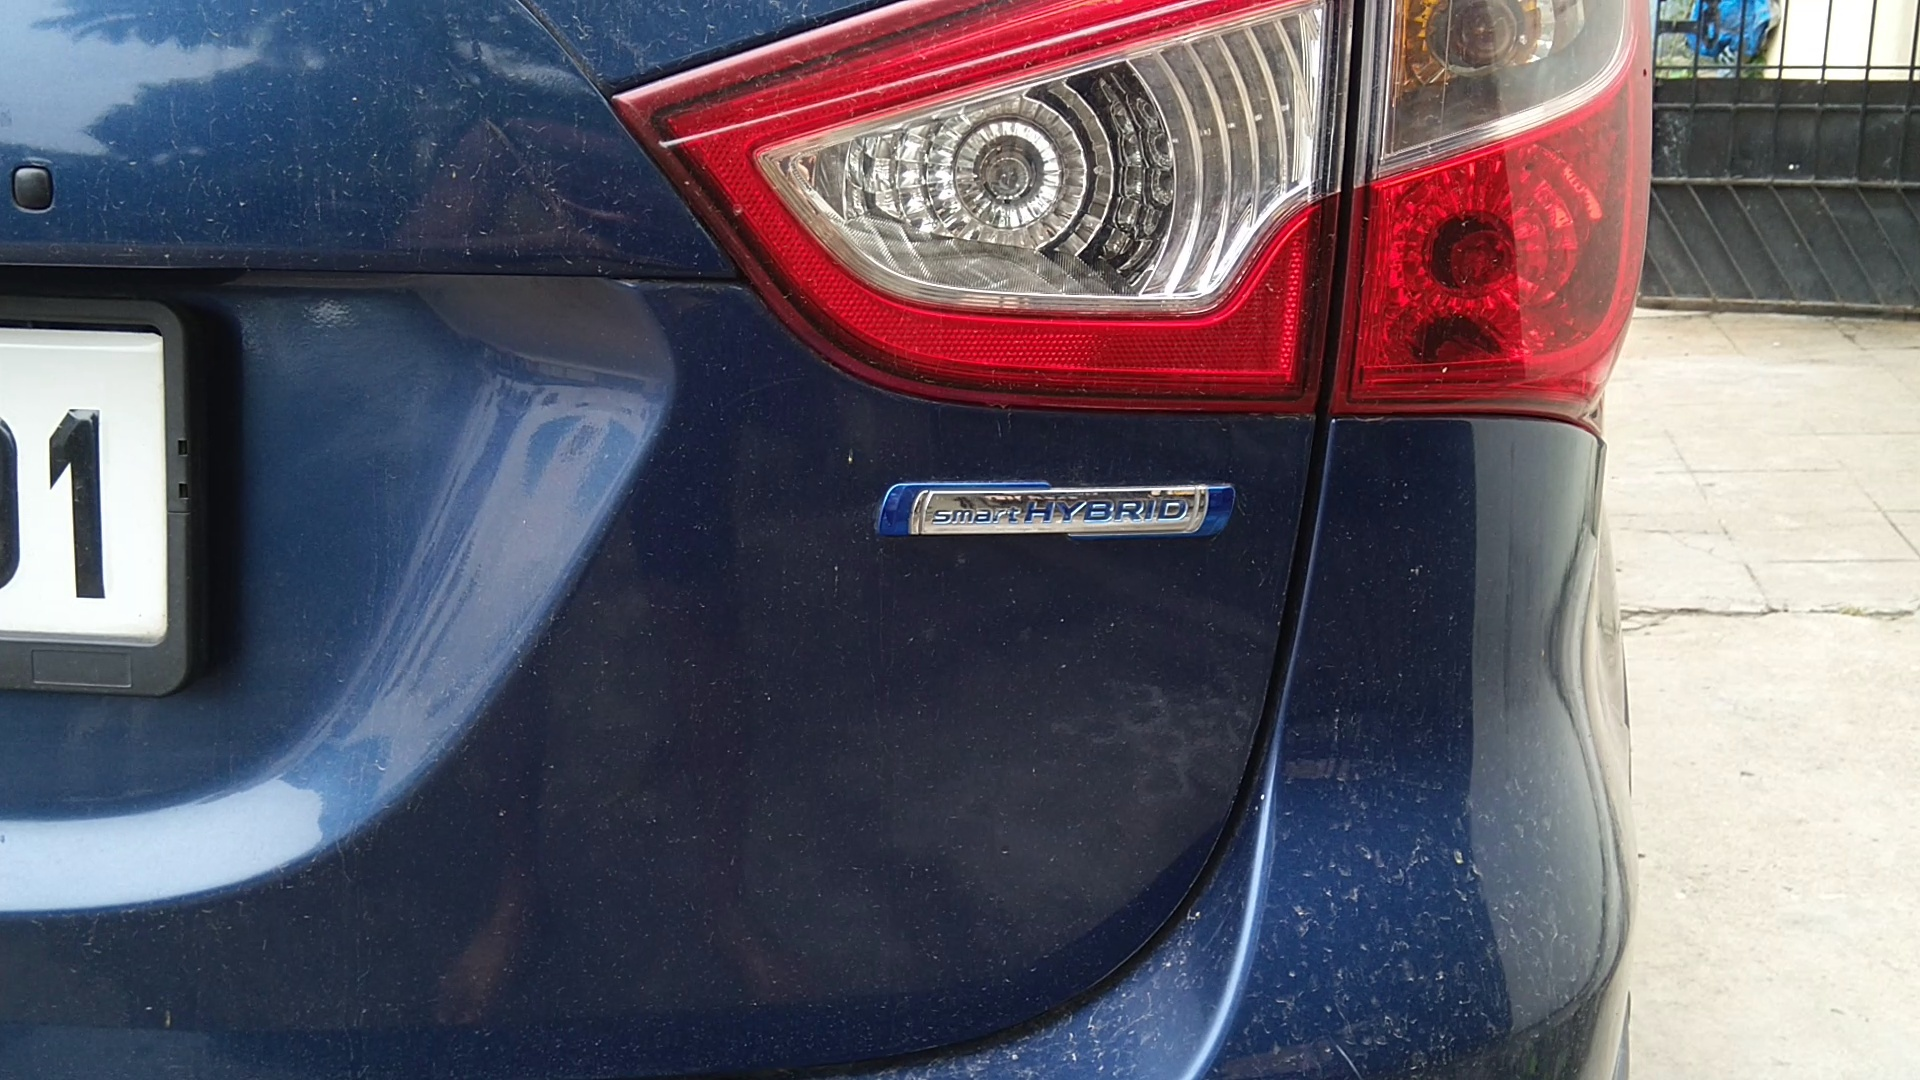shvs: (856, 450, 1302, 592)
